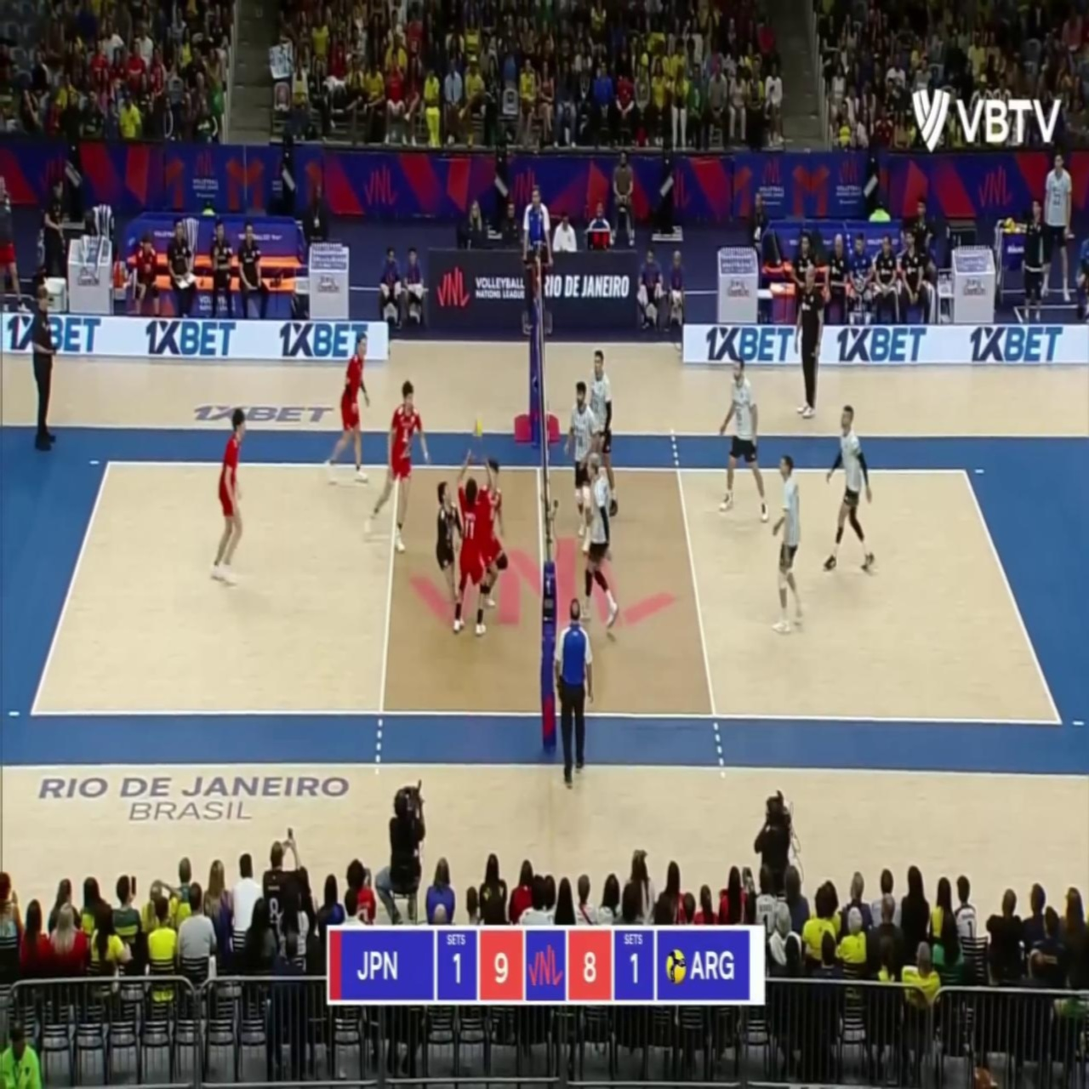ball: (472, 416, 483, 435)
